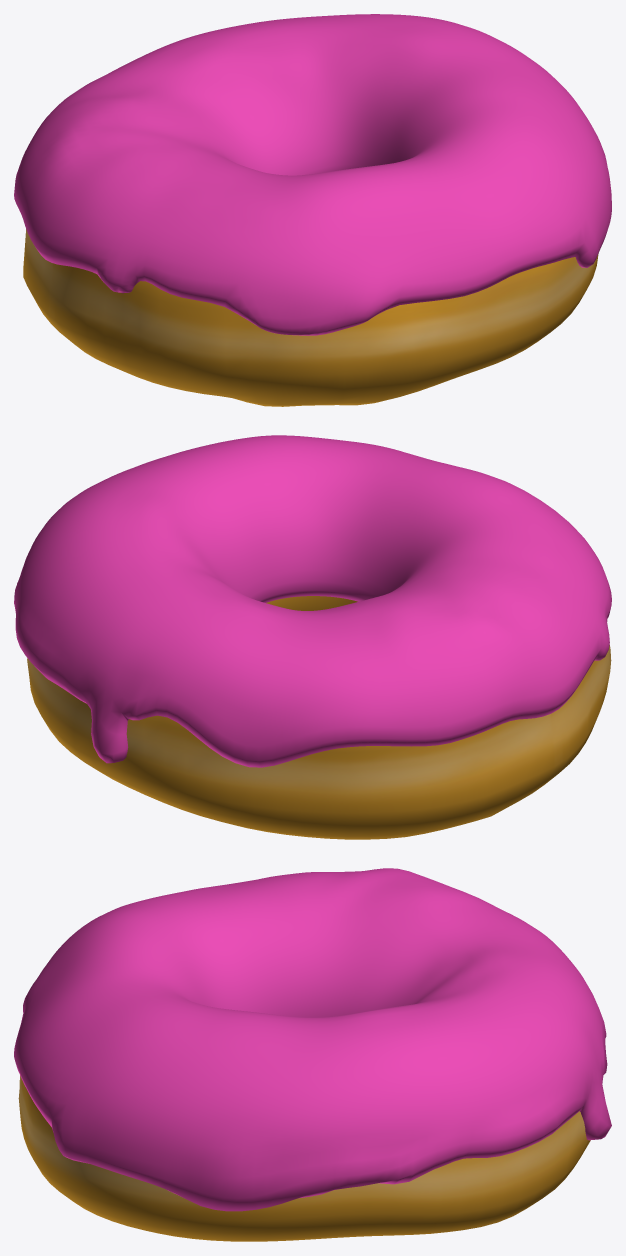
File: Donut1.glb
3 views of the same model, one above another, from view 1: azimuth 30°, elevation 25°; view 2: azimuth 150°, elevation 25°; view 3: azimuth 270°, elevation 25° (orthographic). The views are drawn at different scales.
Visible parts, largest first — view 1: Icing, Donut; view 2: Icing, Donut; view 3: Icing, Donut.
Part boxes in pixels (left/top/right/bottom): Icing: left=14, top=14, right=611, bottom=335; Donut: left=23, top=229, right=598, bottom=406; Icing: left=14, top=435, right=611, bottom=767; Donut: left=27, top=596, right=611, bottom=839; Icing: left=14, top=868, right=611, bottom=1211; Donut: left=18, top=1075, right=590, bottom=1241.
Size of the model in its own units: 1.22 by 0.5282 by 1.17.
2 materials, 1 textured.
